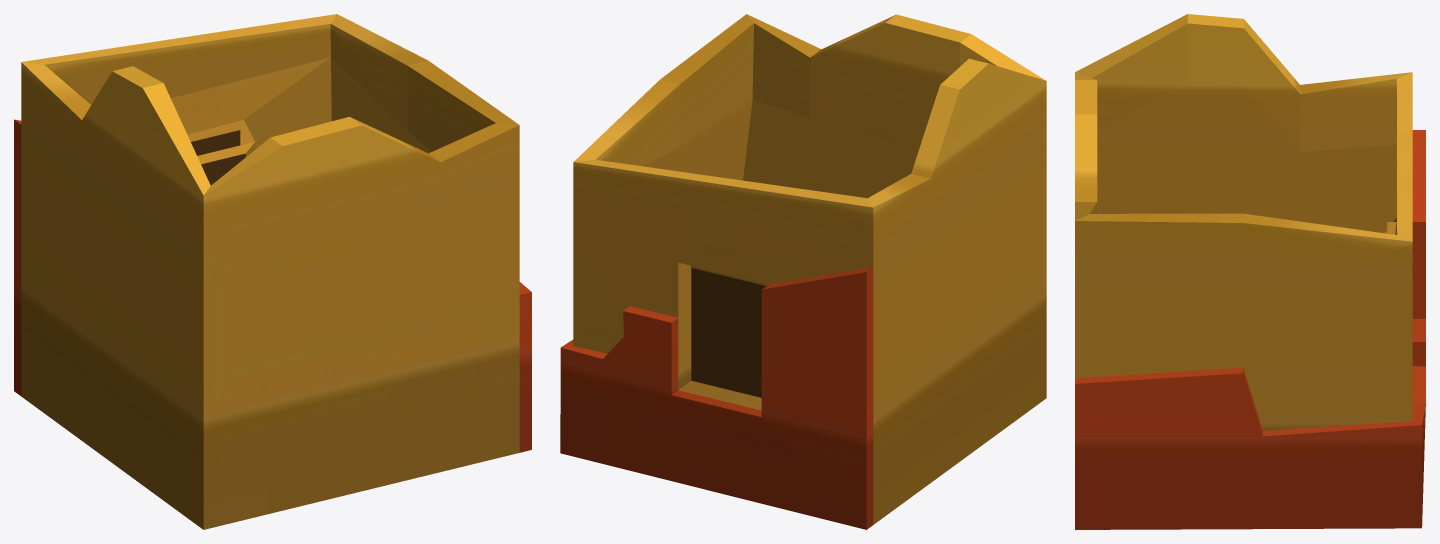
File: RuinaCasa4.glb
3 renders of one model, left to right at view 1: azimuth 30°, elevation 25°; view 2: azimuth 150°, elevation 25°; view 3: azimuth 270°, elevation 25°, orthographic. The views are drawn at different scales.
Parts seen in each view (by area): view 1: RuinaCasa4; view 2: RuinaCasa4; view 3: RuinaCasa4.
Part boxes in pixels (x1,y1,x2,y2): RuinaCasa4: [14, 14, 531, 529]; RuinaCasa4: [560, 14, 1046, 529]; RuinaCasa4: [1075, 14, 1425, 529].
Size of the model in its own units: 1.89 by 2.18 by 1.89.
1 material, 1 textured.
